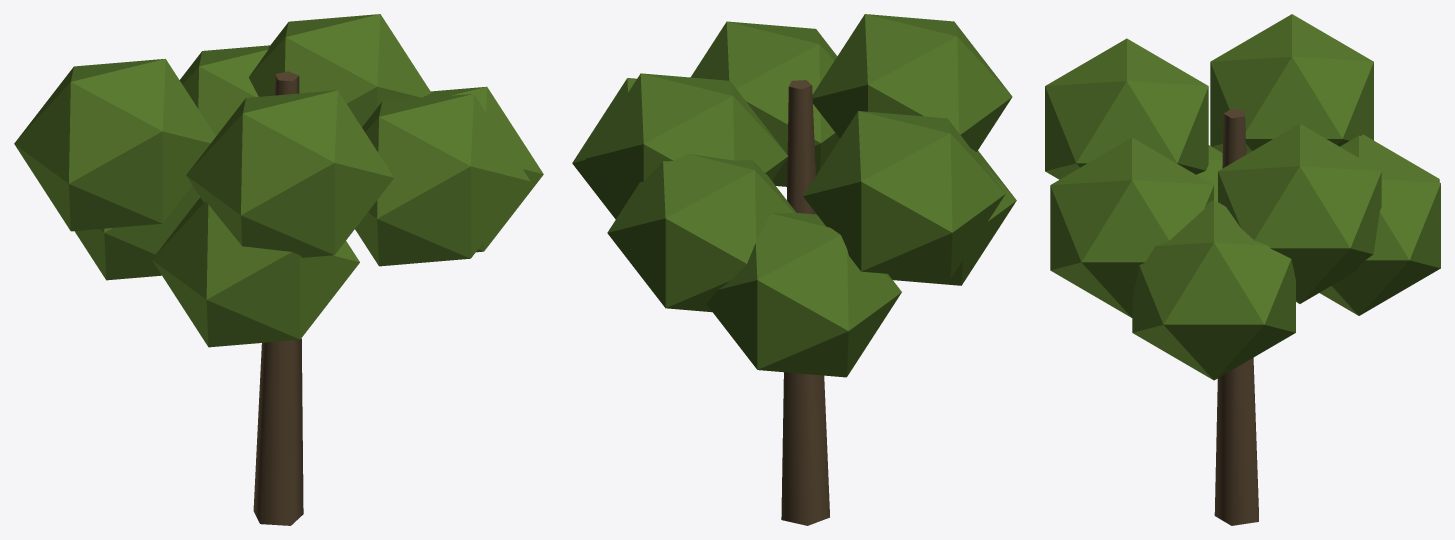
3 renders of one model, left to right at view 1: azimuth 30°, elevation 25°; view 2: azimuth 150°, elevation 25°; view 3: azimuth 270°, elevation 25°, orthographic. The views are drawn at different scales.
Visible parts, largest first — view 1: oak-leaf; view 2: oak-leaf; view 3: oak-leaf.
Part boxes in pixels (bbox=[...]): oak-leaf: bbox=[14, 14, 543, 525]; oak-leaf: bbox=[572, 14, 1016, 525]; oak-leaf: bbox=[1045, 14, 1440, 525].
Size of the model in its own units: 7.94 by 8.26 by 6.81.
